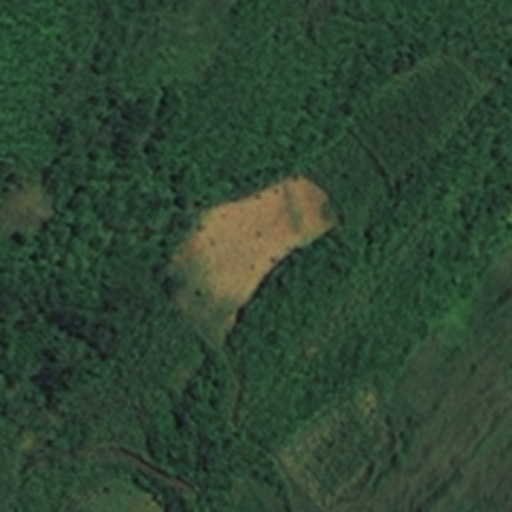landslide: (190, 179, 336, 299)
